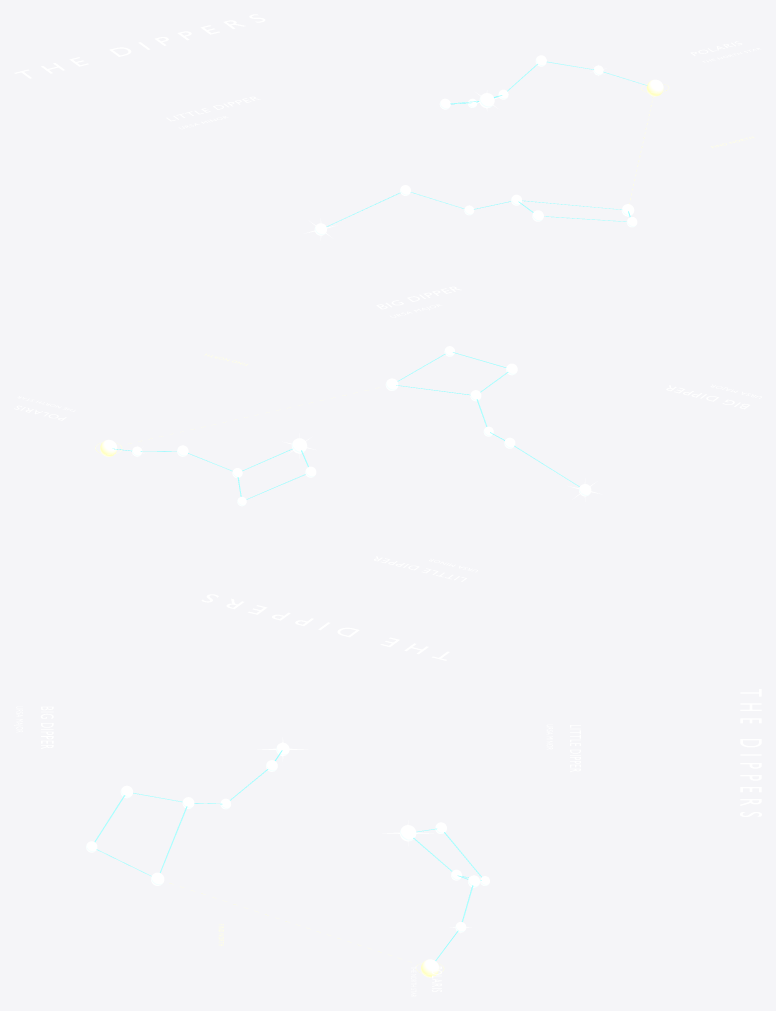
The picture shows the model from 3 angles, top to bottom: view 1: azimuth 30°, elevation 25°; view 2: azimuth 150°, elevation 25°; view 3: azimuth 270°, elevation 25°; orthographic projection. The views are drawn at different scales.
Parts seen in each view (by area): view 1: Title; view 2: Title; view 3: Title.
Part boxes in pixels (box(x1,y1,x2,y2)): Title: box(14, 14, 265, 78); Title: box(201, 594, 449, 660); Title: box(740, 689, 761, 816).
Bounding box in the file's own units: 0.2 × 0.0191 × 0.2055.
